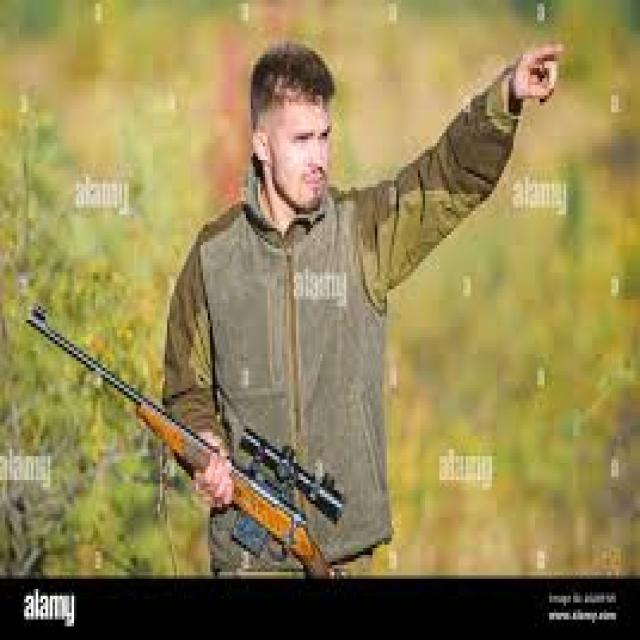gun: (15, 248, 343, 572)
